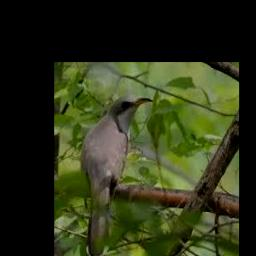Cuckoo: (81, 95, 153, 256)
